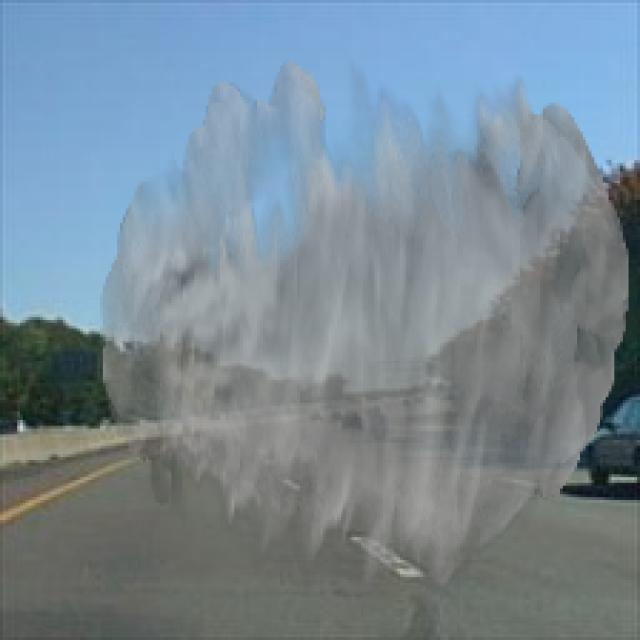smoke: (100, 60, 629, 597)
